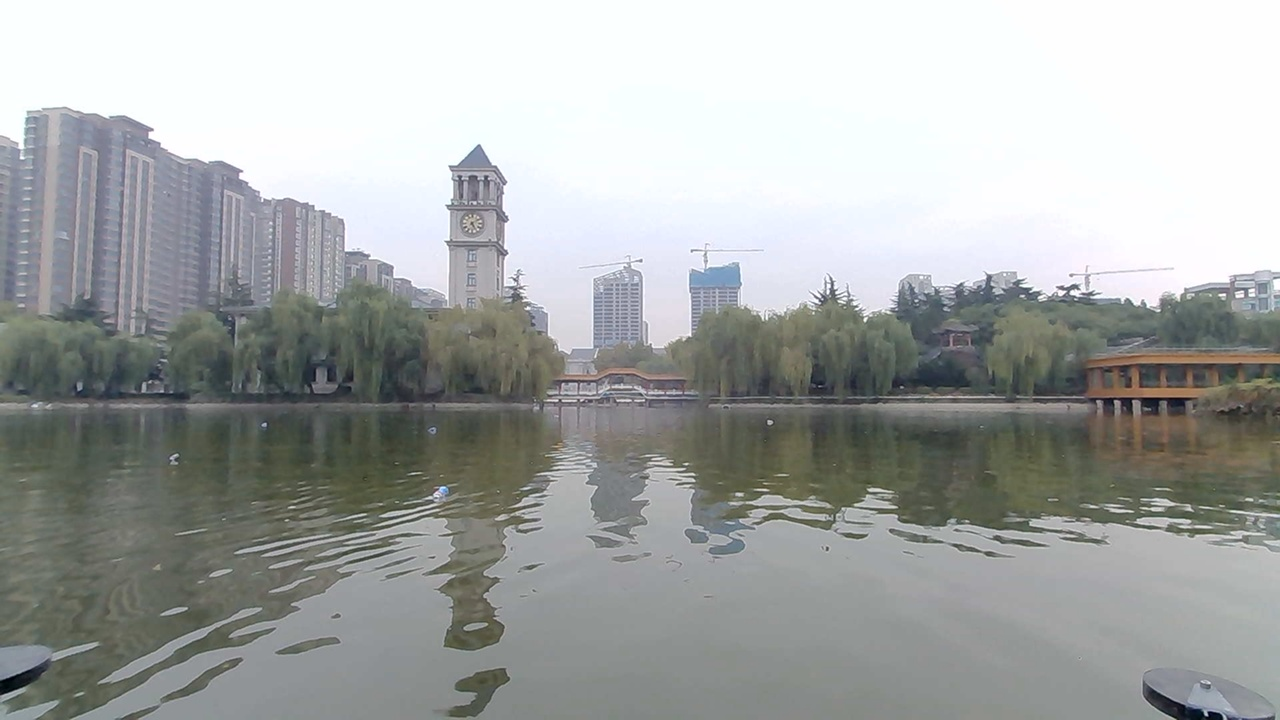bottle: (417, 479, 477, 512), (157, 447, 198, 470), (744, 413, 783, 436), (421, 421, 458, 445), (252, 411, 288, 435)
